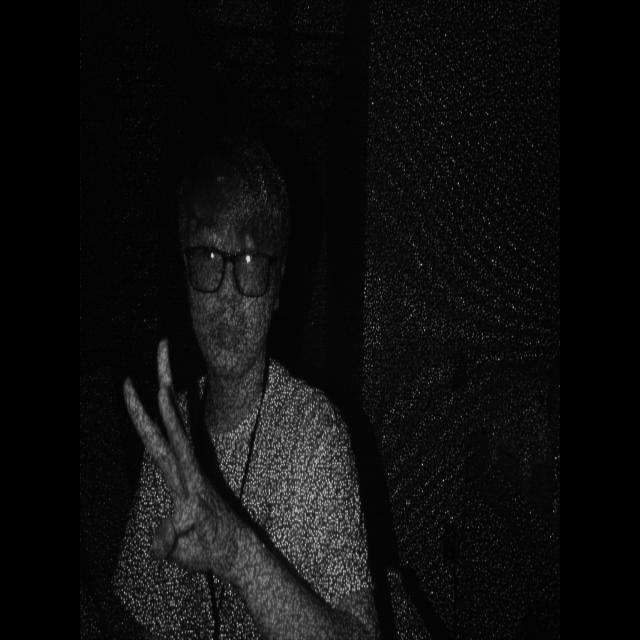W: (115, 326, 237, 590)
